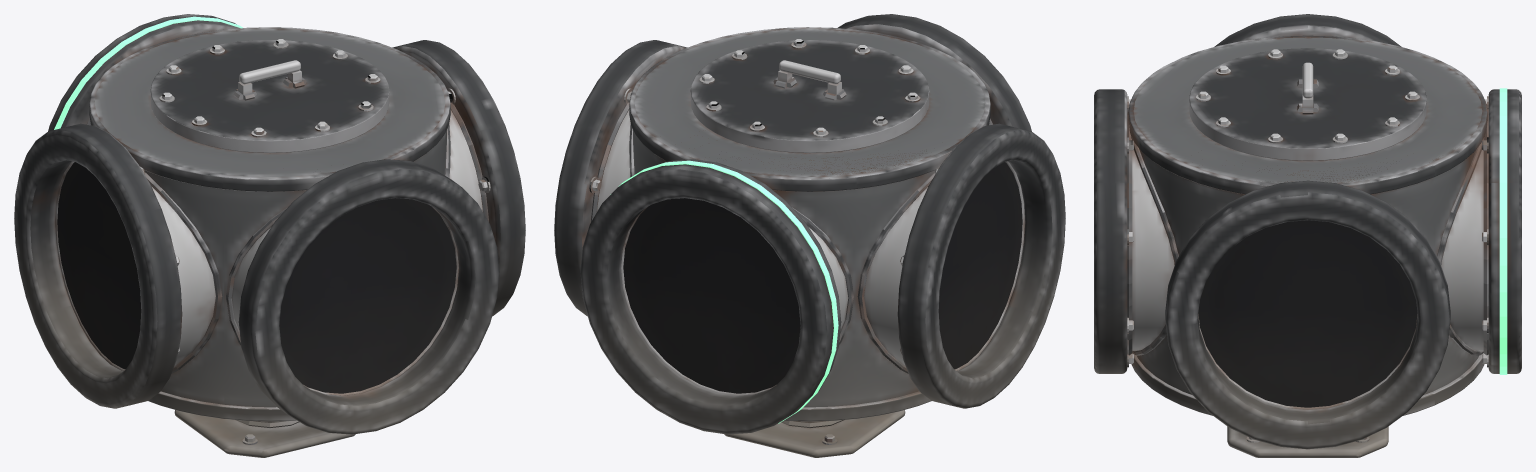
The model's file is SM_Merger.glb.
The picture shows the model from 3 angles, left to right: view 1: azimuth 30°, elevation 25°; view 2: azimuth 150°, elevation 25°; view 3: azimuth 270°, elevation 25°; orthographic projection.
Parts seen in each view (by area): view 1: SM_Merger; view 2: SM_Merger; view 3: SM_Merger.
Boxes of the visible parts, x1,y1,x2,y2 form: SM_Merger: [14, 14, 525, 457]; SM_Merger: [554, 14, 1065, 457]; SM_Merger: [1094, 14, 1521, 457].
Size of the model in its own units: 0.9 by 0.812 by 0.9.
Materials: 6 (5 with a texture image).
